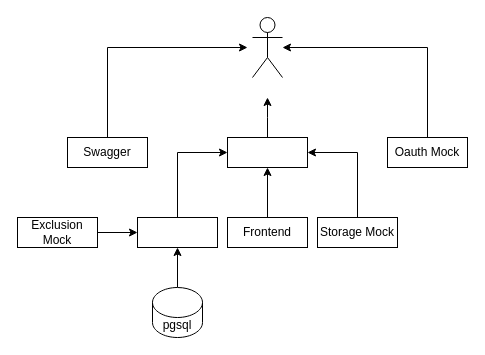
Image size: 485x355. Some labels were removed from this diagram. Each missing label, with the centre of its shape:
"Actor" goes at (x=267, y=47).
"API" goes at (x=177, y=232).
"Nginx" goes at (x=267, y=152).
